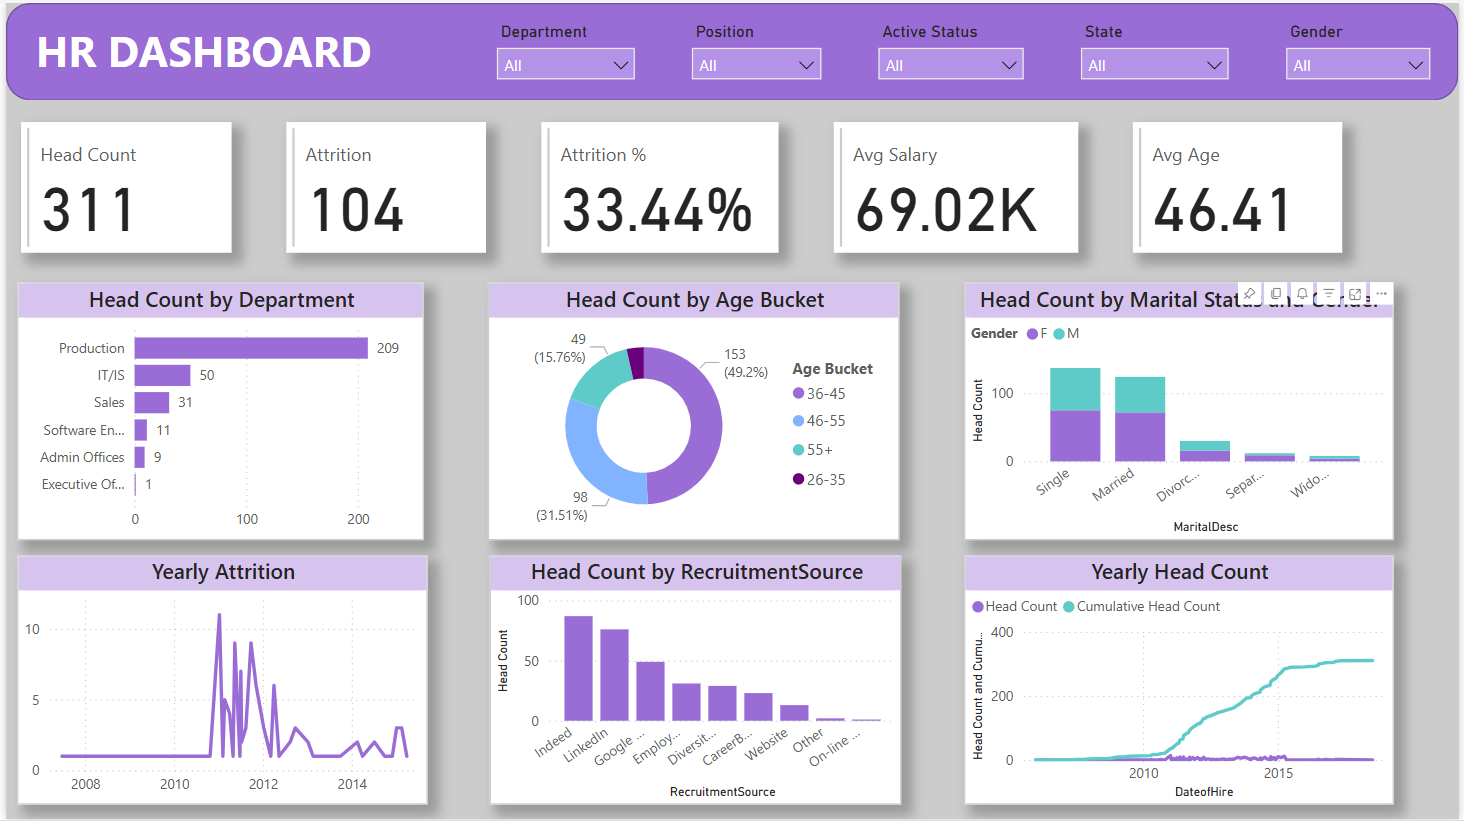

The page's visual inventory and layout, read from the dashboard file:
{"tool":"powerbi","page":{"name":"HR Dahboard","canvas":[1280,720],"ordinal":0},"visuals":[{"type":"shape","box":[0,0,1279.8,85.7],"z":0},{"type":"cardVisual","fields":{"Data":["Measure.Head Count"]},"box":[13.1,104.8,185.7,115.5],"z":1000},{"type":"cardVisual","fields":{"Data":["Measure.Attrition"]},"box":[247,104.8,176.2,115.5],"z":2000},{"type":"cardVisual","fields":{"Data":["Measure.Attrition %"]},"box":[471.4,104.8,209.5,115.5],"z":3000},{"type":"cardVisual","fields":{"Data":["Measure.Avg Salary"]},"box":[729.2,104.8,215.5,115.5],"z":4000},{"type":"cardVisual","fields":{"Data":["Measure.Avg Age"]},"box":[992.9,104.8,184.5,115.5],"z":5000},{"type":"clusteredBarChart","fields":{"Y":["Measure.Head Count"],"Category":["HRDataset_v14.Department"]},"box":[9.5,246.4,358.3,227.4],"z":6000},{"type":"donutChart","fields":{"Category":["HRDataset_v14.Age Bucket"],"Y":["Measure.Head Count"]},"box":[424.4,246.4,363.1,227.4],"z":7000},{"type":"columnChart","title":"Head Count by Marital Status and Gender","fields":{"Category":["HRDataset_v14.MaritalDesc"],"Y":["Measure.Head Count"],"Series":["HRDataset_v14.Gender"]},"box":[844.1,246.4,378.6,227.4],"z":8000},{"type":"lineChart","title":"Yearly Head Count","fields":{"Category":["HRDataset_v14.DateofHire"],"Y":["Measure.Head Count","Measure.Cumulative Head Count"]},"box":[844.1,486.9,378.6,220.2],"z":9000},{"type":"lineChart","title":"Yearly Attrition","fields":{"Y":["Measure.Attrition"],"Category":["HRDataset_v14.DateofHire"]},"box":[9.5,486.9,361.9,220.2],"z":10000},{"type":"columnChart","fields":{"Category":["HRDataset_v14.RecruitmentSource"],"Y":["Measure.Head Count"]},"box":[426.2,486.9,363.1,220.2],"z":11000},{"type":"slicer","fields":{"Values":["HRDataset_v14.Department"]},"box":[422.6,10.7,141.7,64.3],"z":12000},{"type":"slicer","fields":{"Values":["HRDataset_v14.EmploymentStatus"]},"box":[759.5,10.7,147.6,65.5],"z":13000},{"type":"slicer","fields":{"Values":["HRDataset_v14.State"]},"box":[938.1,10.7,150,65.5],"z":14000},{"type":"slicer","fields":{"Values":["HRDataset_v14.Gender"]},"box":[1119.1,10.7,146.4,65.5],"z":15000},{"type":"slicer","fields":{"Values":["HRDataset_v14.Position"]},"box":[595.2,10.7,133.3,65.5],"z":16000},{"type":"textbox","box":[21.4,10.7,381,64.3],"z":17000}]}

Visuals, with their boxes in screenshot pixels (x1, y1, x2, y2), scaled from the page's 1280x720 canvas onto the 1464x821 screenshot:
shape: select_region(0, 0, 1463, 98)
cardVisual - Measure.Head Count: select_region(15, 120, 227, 251)
cardVisual - Measure.Attrition: select_region(283, 120, 484, 251)
cardVisual - Measure.Attrition %: select_region(539, 120, 779, 251)
cardVisual - Measure.Avg Salary: select_region(834, 120, 1081, 251)
cardVisual - Measure.Avg Age: select_region(1136, 120, 1347, 251)
clusteredBarChart - Measure.Head Count x HRDataset_v14.Department: select_region(11, 281, 421, 540)
donutChart - HRDataset_v14.Age Bucket x Measure.Head Count: select_region(485, 281, 901, 540)
"Head Count by Marital Status and Gender" columnChart: select_region(965, 281, 1398, 540)
"Yearly Head Count" lineChart: select_region(965, 555, 1398, 806)
"Yearly Attrition" lineChart: select_region(11, 555, 425, 806)
columnChart - HRDataset_v14.RecruitmentSource x Measure.Head Count: select_region(487, 555, 903, 806)
slicer - HRDataset_v14.Department: select_region(483, 12, 645, 86)
slicer - HRDataset_v14.EmploymentStatus: select_region(869, 12, 1037, 87)
slicer - HRDataset_v14.State: select_region(1073, 12, 1245, 87)
slicer - HRDataset_v14.Gender: select_region(1280, 12, 1447, 87)
slicer - HRDataset_v14.Position: select_region(681, 12, 833, 87)
textbox: select_region(24, 12, 460, 86)
